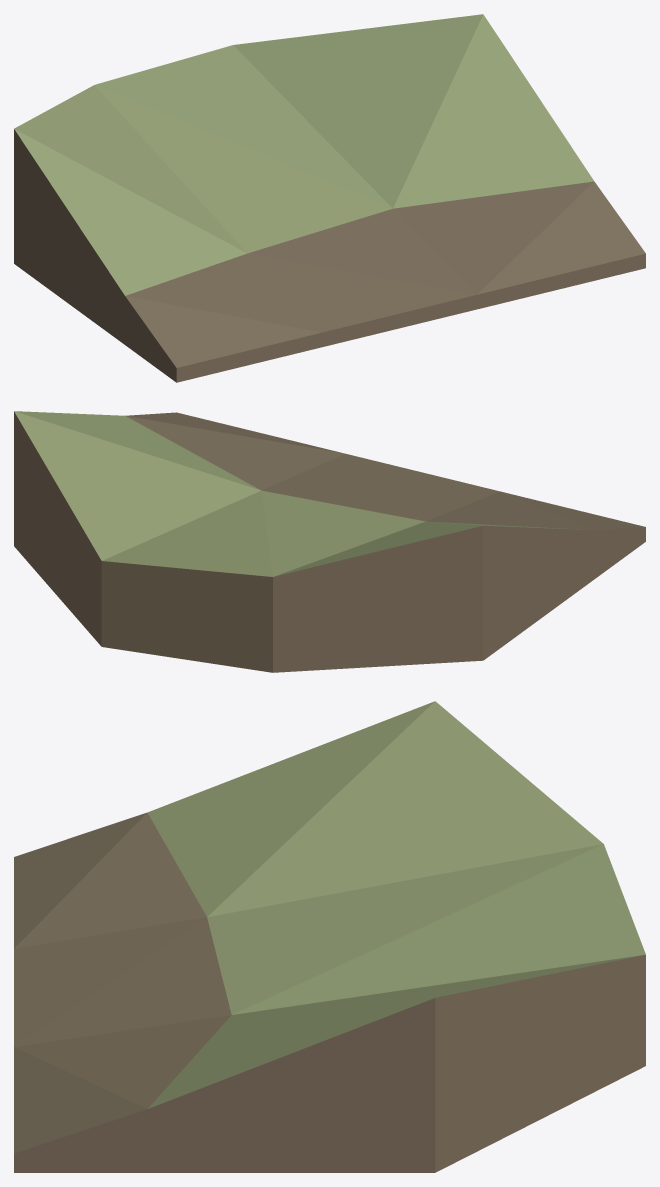
The picture shows the model from 3 angles, top to bottom: view 1: azimuth 30°, elevation 25°; view 2: azimuth 150°, elevation 25°; view 3: azimuth 270°, elevation 25°; orthographic projection. The views are drawn at different scales.
Parts seen in each view (by area): view 1: nature-bank-access-transition-01; view 2: nature-bank-access-transition-01; view 3: nature-bank-access-transition-01.
Part boxes in pixels (x1=…): nature-bank-access-transition-01: x1=14, y1=14, x2=645, y2=382; nature-bank-access-transition-01: x1=14, y1=411, x2=645, y2=672; nature-bank-access-transition-01: x1=14, y1=701, x2=645, y2=1172.
Bounding box in the file's own units: 2 × 0.55 × 1.8.
